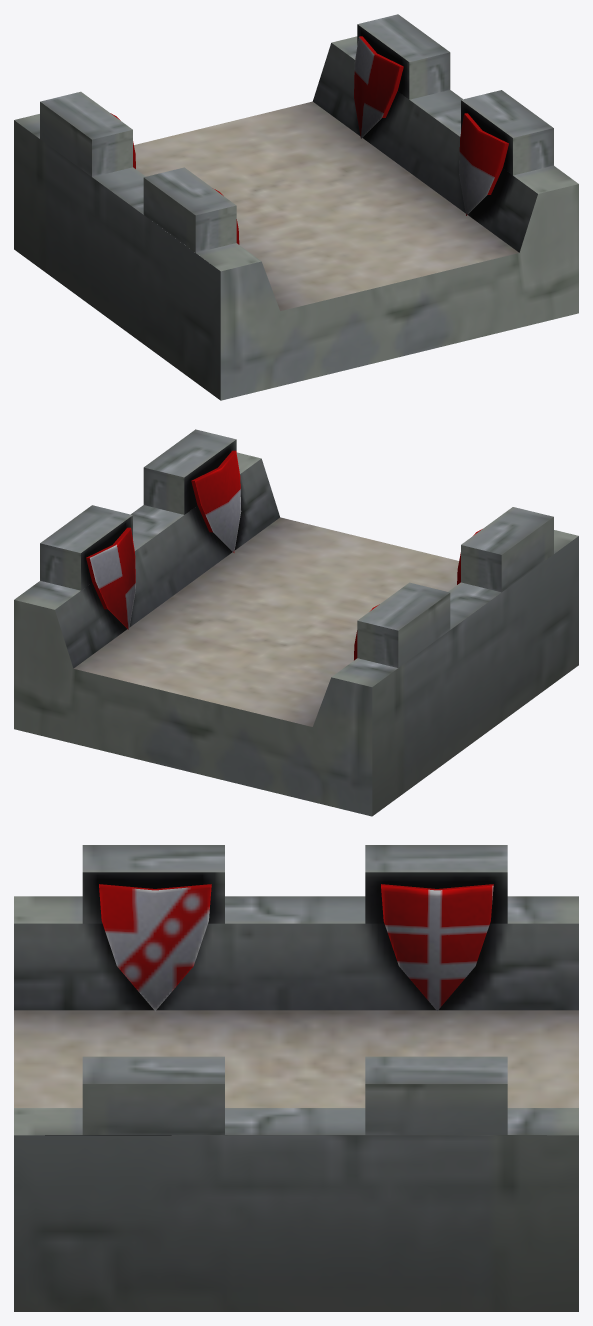
File: med_tile_straight_static.obj
3 views of the same model, one above another, from view 1: azimuth 30°, elevation 25°; view 2: azimuth 150°, elevation 25°; view 3: azimuth 270°, elevation 25° (orthographic). The views are drawn at different scales.
Parts seen in each view (by area): view 1: tile_straight_static; view 2: tile_straight_static; view 3: tile_straight_static.
Boxes of the visible parts, x1,y1,x2,y2 form: tile_straight_static: [14, 14, 578, 400]; tile_straight_static: [14, 429, 578, 816]; tile_straight_static: [14, 845, 578, 1311].
Size of the model in its own units: 1 by 0.4451 by 1.
1 material, 1 textured.
